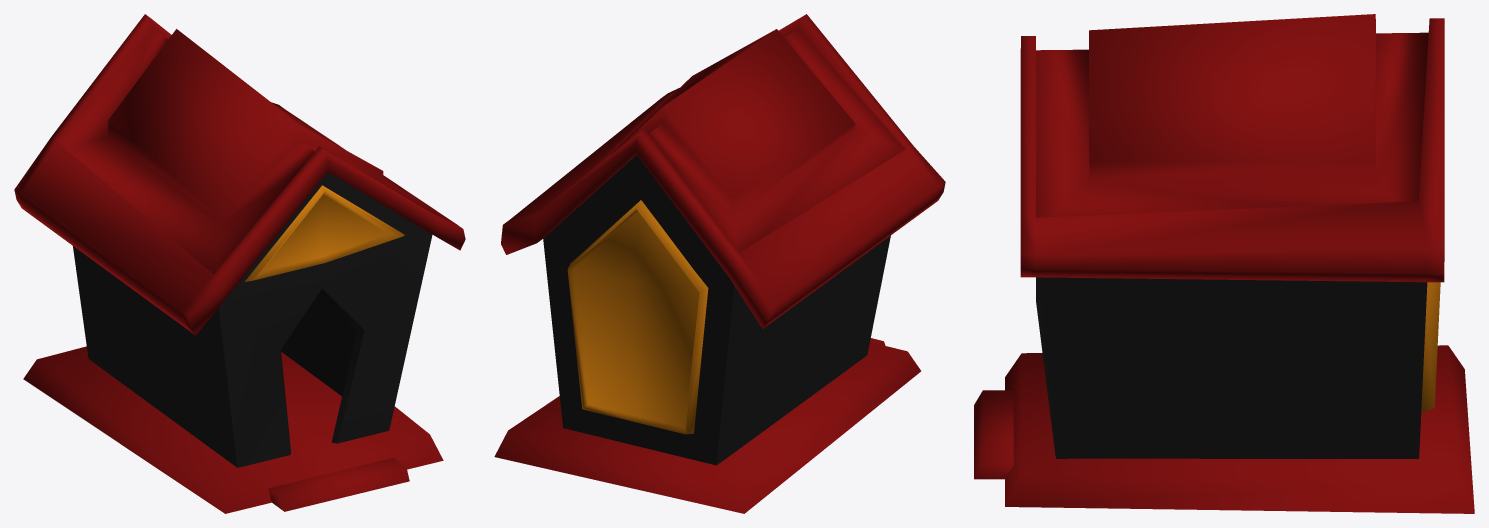
File: Mausoleum.FBX
The picture shows the model from 3 angles, left to right: view 1: azimuth 30°, elevation 25°; view 2: azimuth 150°, elevation 25°; view 3: azimuth 270°, elevation 25°; orthographic projection. The views are drawn at different scales.
Parts seen in each view (by area): view 1: Box002; view 2: Box002; view 3: Box002.
Boxes of the visible parts, x1,y1,x2,y2 form: Box002: [14, 14, 465, 513]; Box002: [494, 14, 945, 513]; Box002: [974, 14, 1474, 513].
Bounding box in the file's own units: 152 × 183 × 195.
